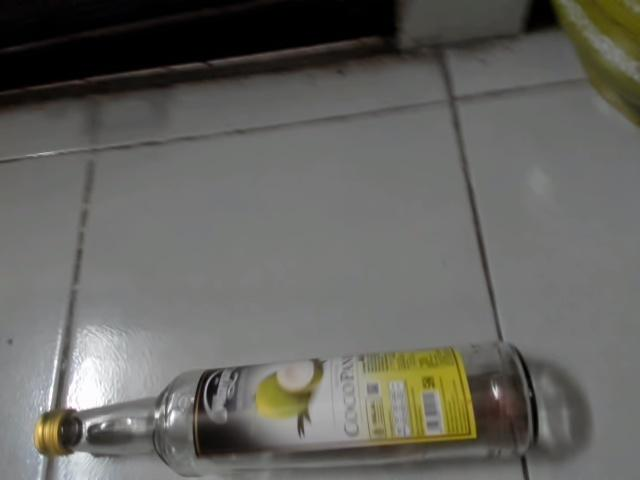botol_kaca: (27, 333, 550, 480)
